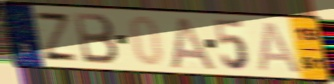0: (127, 14, 166, 68)
5: (213, 18, 254, 73)
A: (167, 15, 219, 72), (257, 20, 305, 76)
B: (72, 11, 121, 67)
Z: (32, 10, 82, 64)
